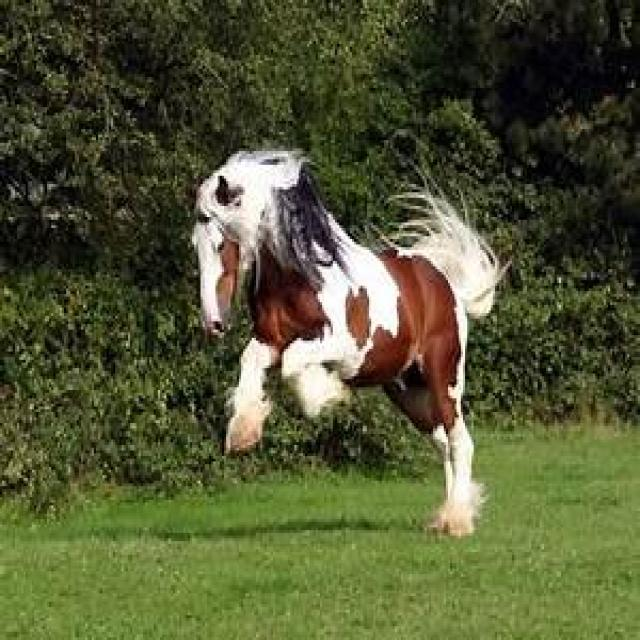horse: (192, 151, 508, 541)
